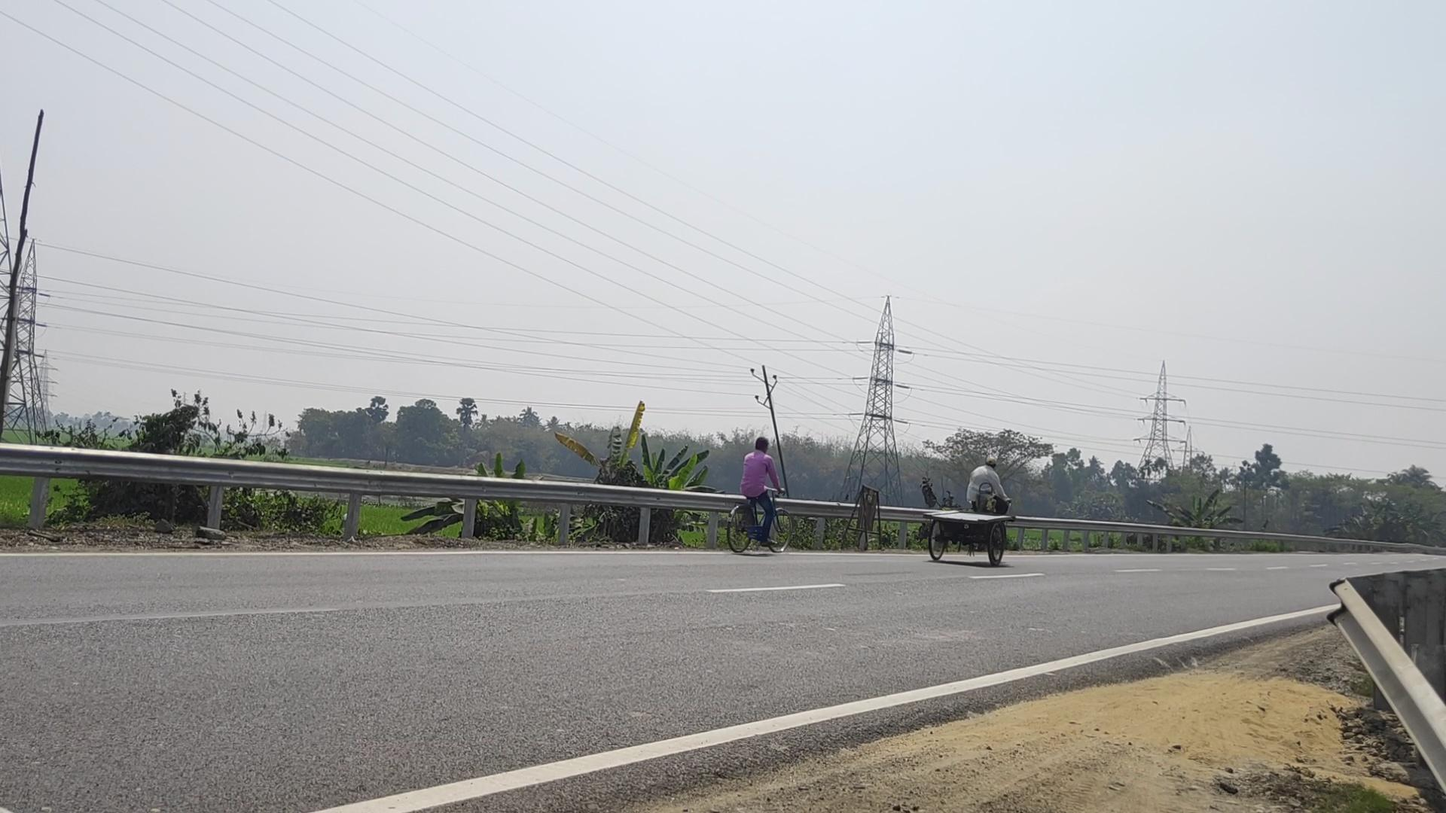bike: (727, 437, 792, 553)
